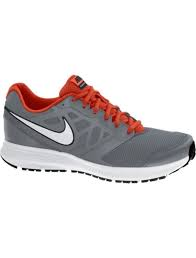nike: (5, 106, 76, 148)
